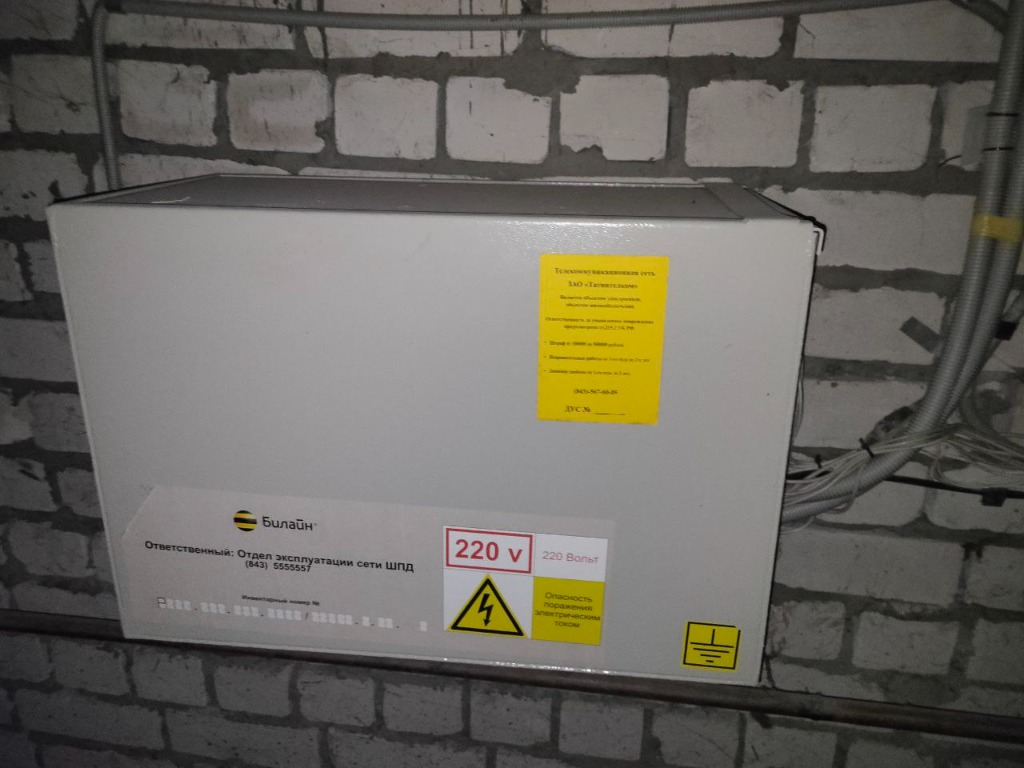sv-5: (38, 163, 829, 692)
